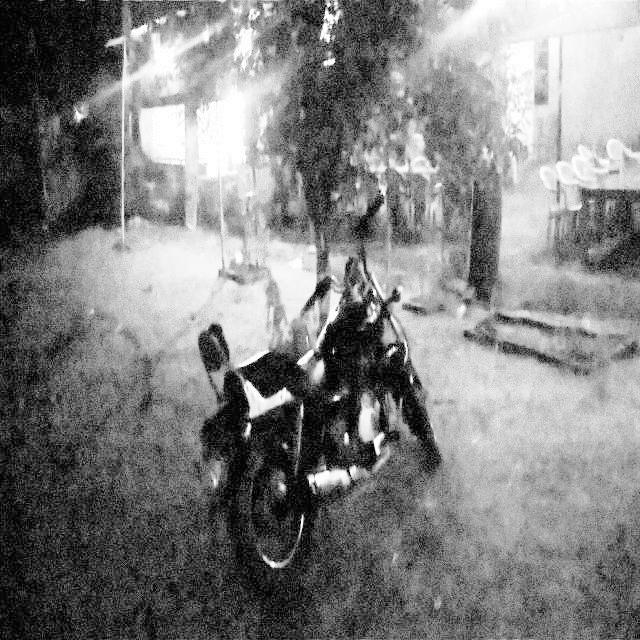Motorcycle: (187, 171, 448, 562)
